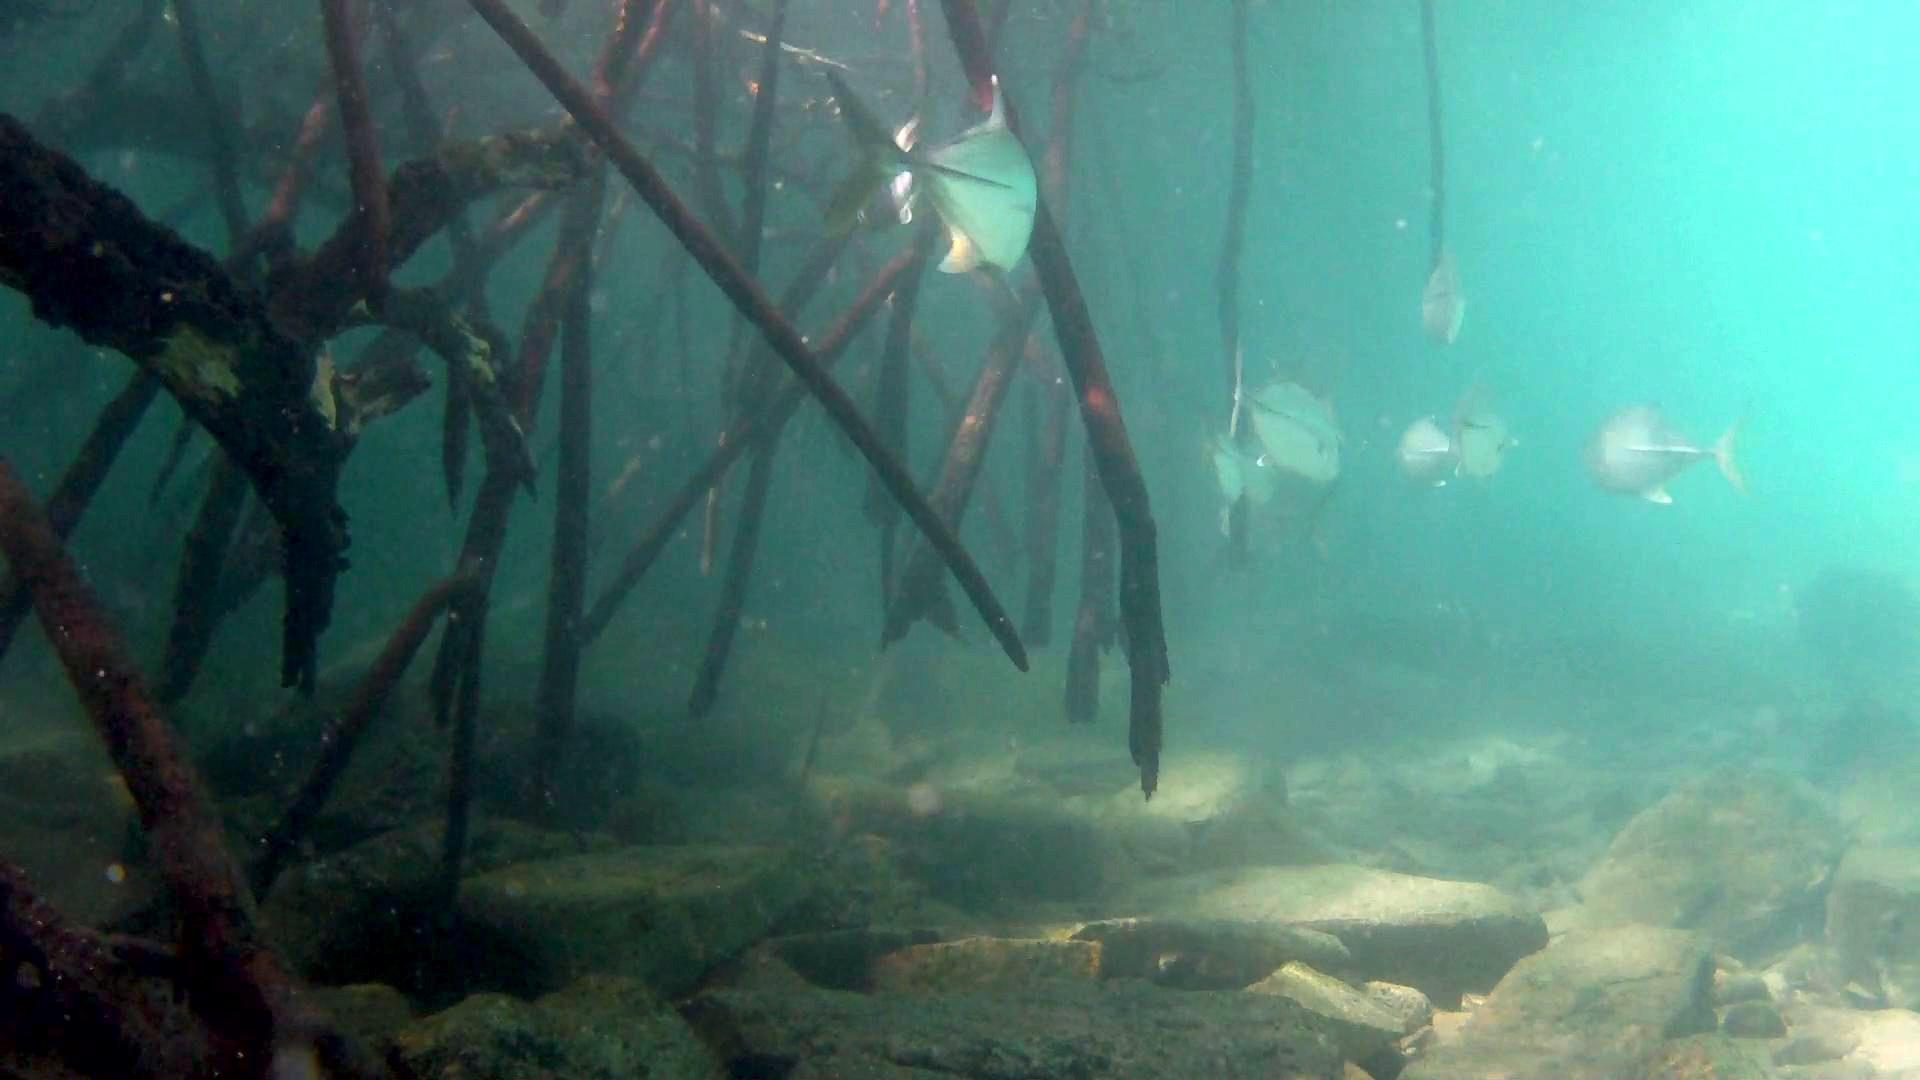caranx: (818, 62, 1044, 285)
